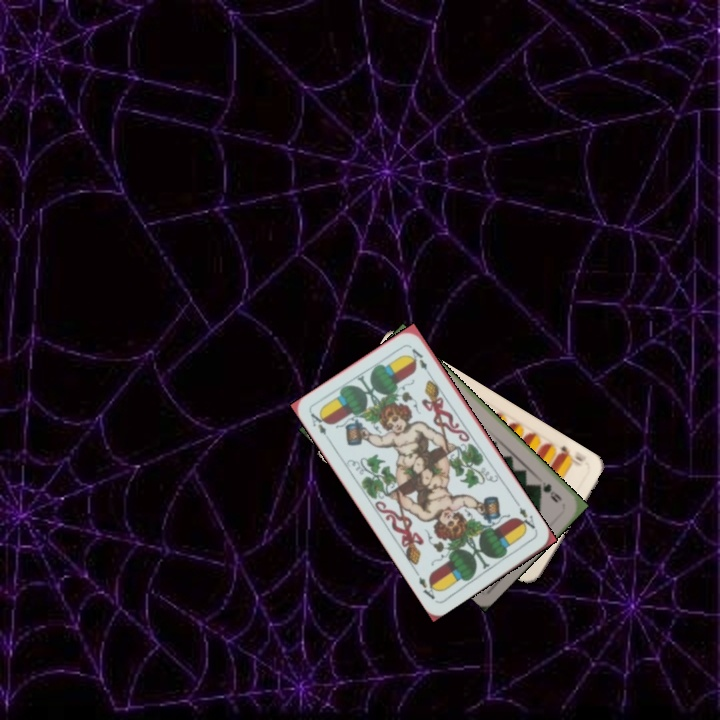E10: (553, 441, 585, 469)
EA: (306, 409, 334, 445), (514, 503, 540, 535)
G9: (533, 477, 564, 505)
